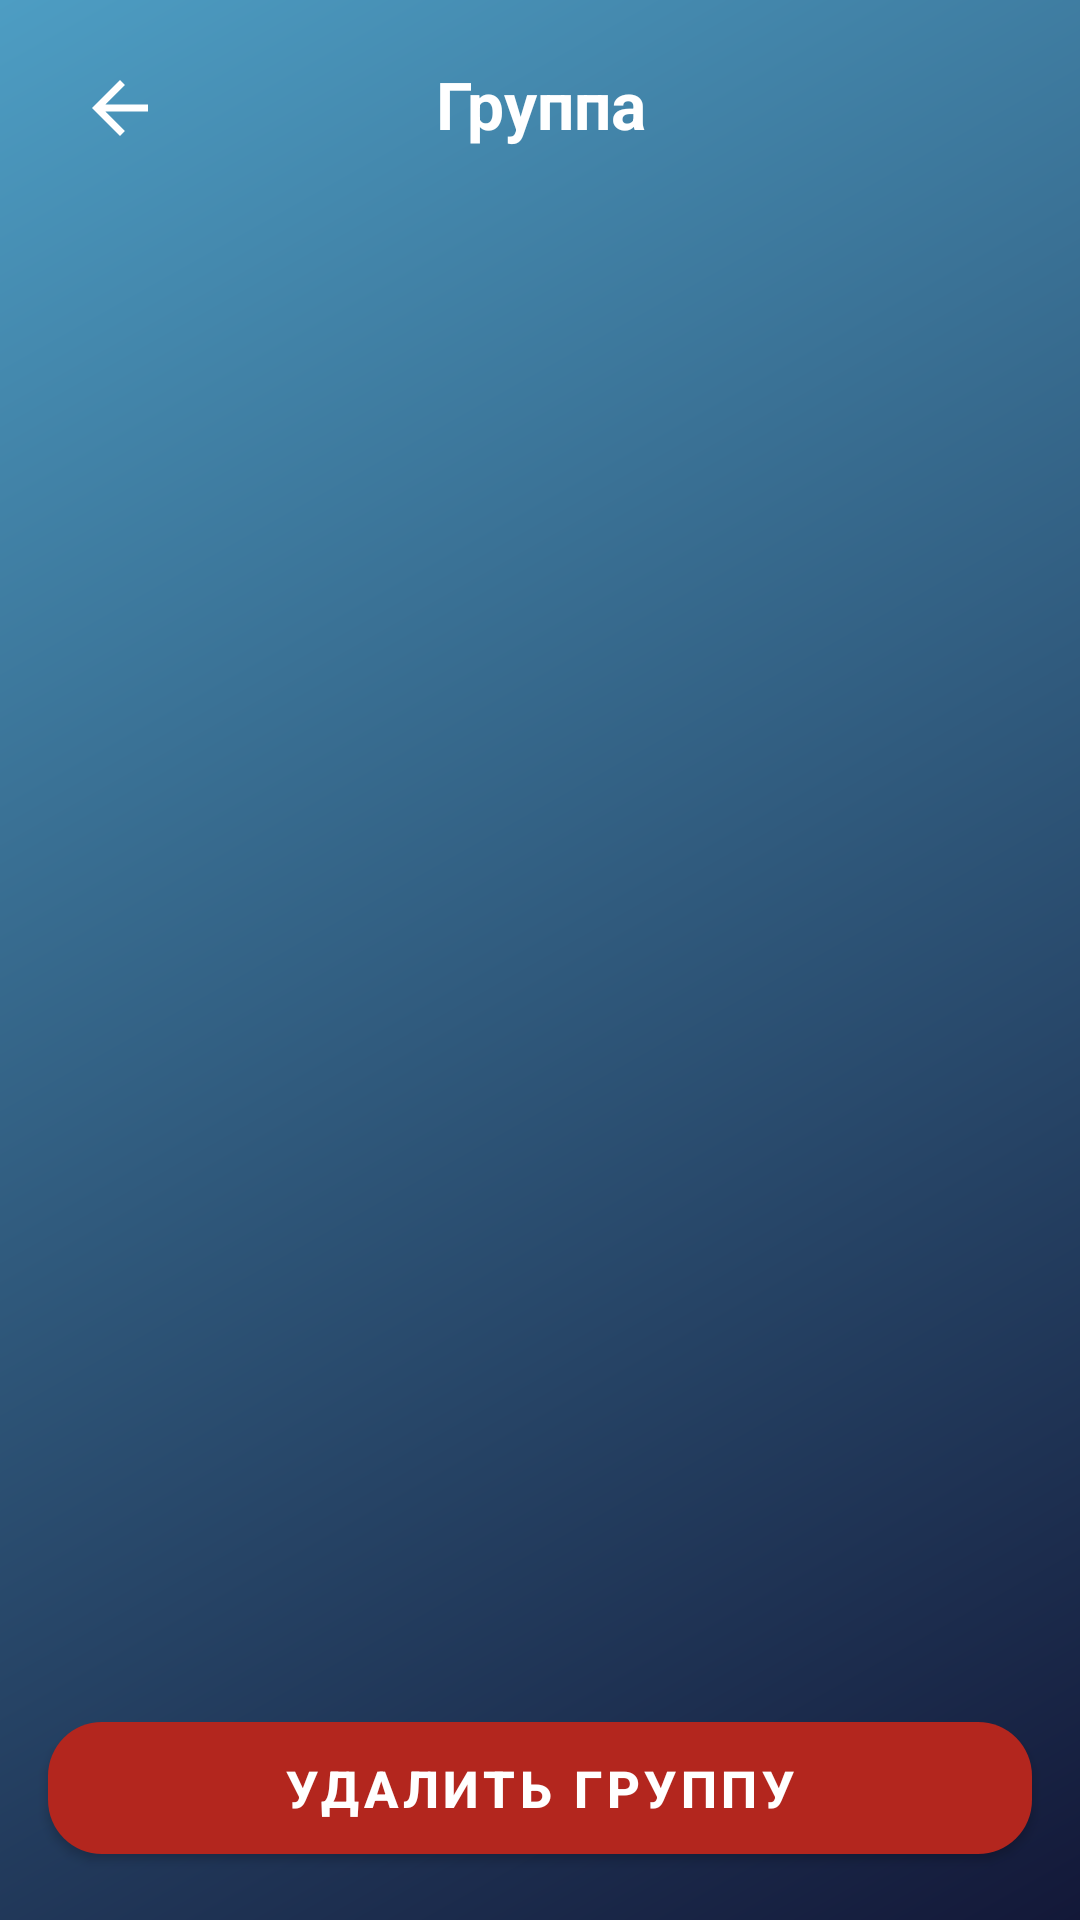

Locate icon controls on the screen. Image size 1080px x 1920px, boxes as bbox(x1, y1, x2, y2).
Назад: bbox(92, 80, 148, 136)
